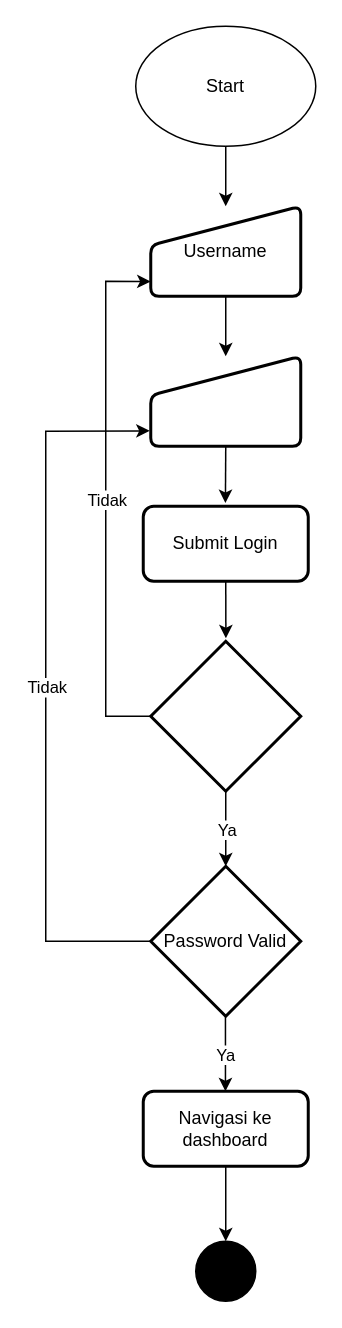
Some shapes in this 342 by 1328 pixel diagram are drawn without their labels. Each missing label, with the box of its shape:
Password: (148, 354, 302, 447)
Username Valid: (148, 639, 302, 792)
